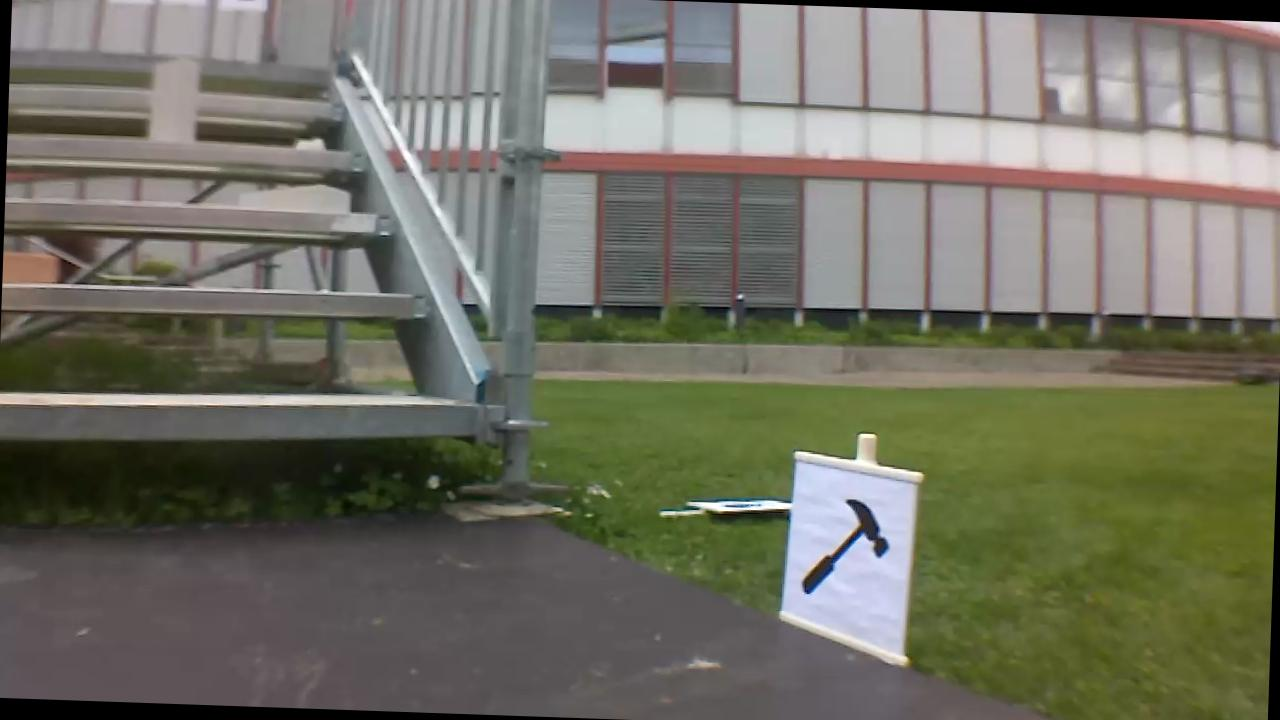brick: (151, 57, 196, 141), (239, 179, 348, 211), (3, 251, 54, 284)
hammer: (793, 484, 897, 610)
